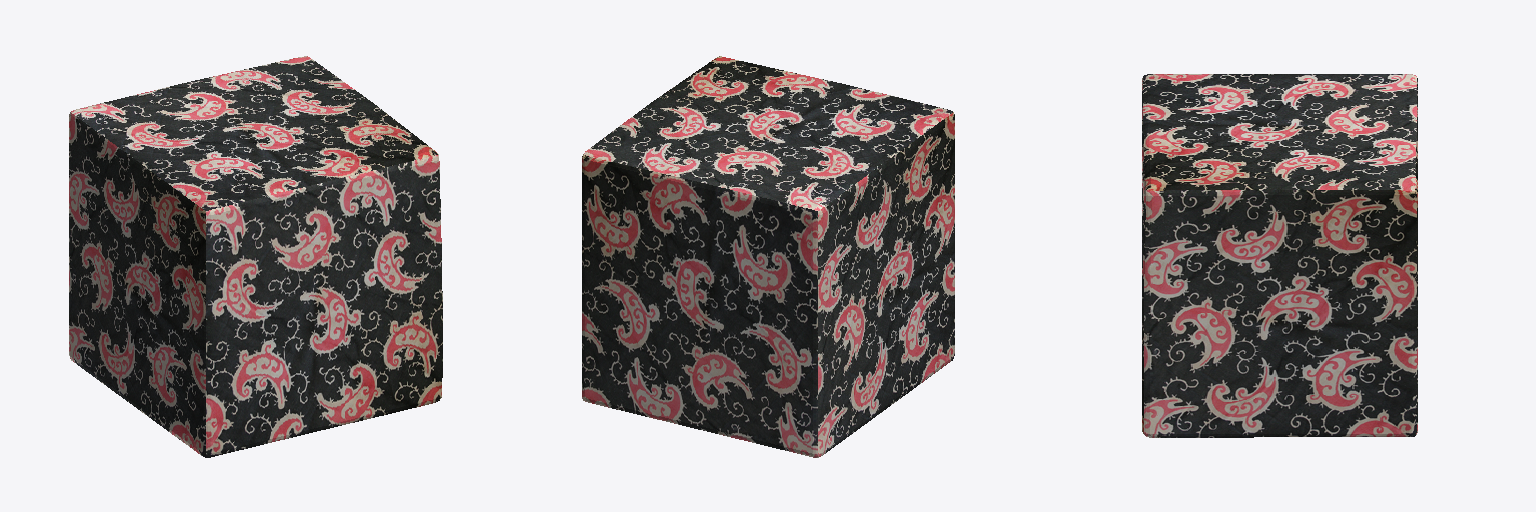
The picture shows the model from 3 angles: view 1: azimuth 30°, elevation 25°; view 2: azimuth 150°, elevation 25°; view 3: azimuth 270°, elevation 25°; orthographic projection.
Size of the model in its own units: 1.02 by 1.02 by 1.02.
1 materials, 1 textured.